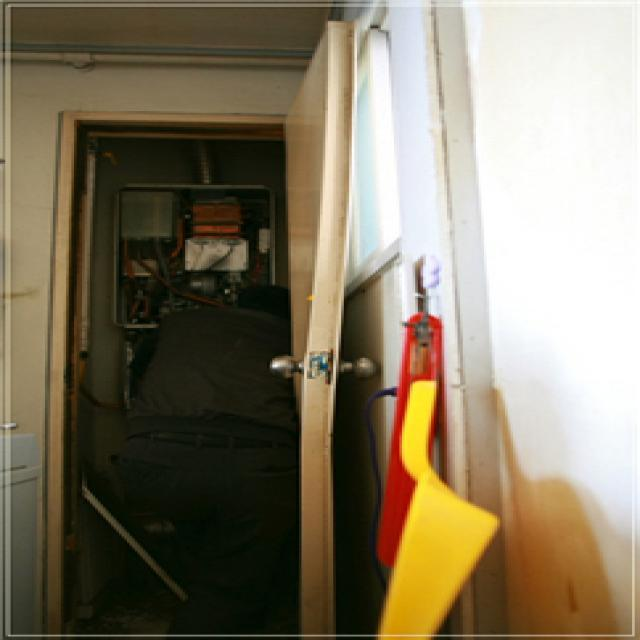Boiler: (74, 126, 326, 378)
